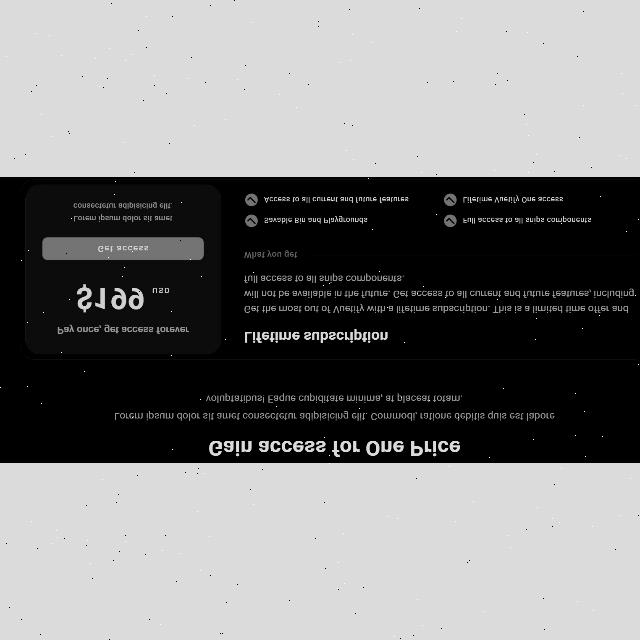QLabel: (244, 274, 636, 316), (112, 410, 556, 422), (208, 439, 462, 459), (203, 393, 462, 405), (244, 328, 390, 344), (77, 286, 145, 312), (57, 324, 191, 334), (262, 196, 410, 204), (462, 216, 592, 224), (462, 194, 566, 203), (263, 216, 371, 224), (71, 202, 173, 210), (73, 215, 173, 223), (243, 250, 299, 260), (97, 244, 149, 252), (150, 286, 170, 294)
VCard: (18, 177, 640, 361), (24, 183, 222, 355)
VDivider: (307, 253, 638, 257)
VIcon: (444, 215, 458, 228), (245, 215, 258, 228), (245, 194, 258, 206), (445, 194, 457, 206)
